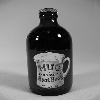beer: (23, 7, 73, 93)
